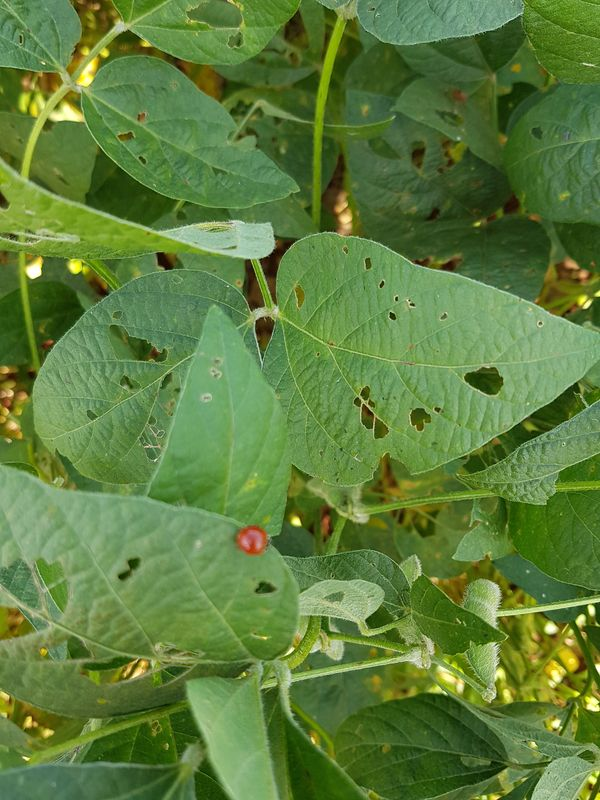Coccinellidae: (219, 512, 281, 569)
